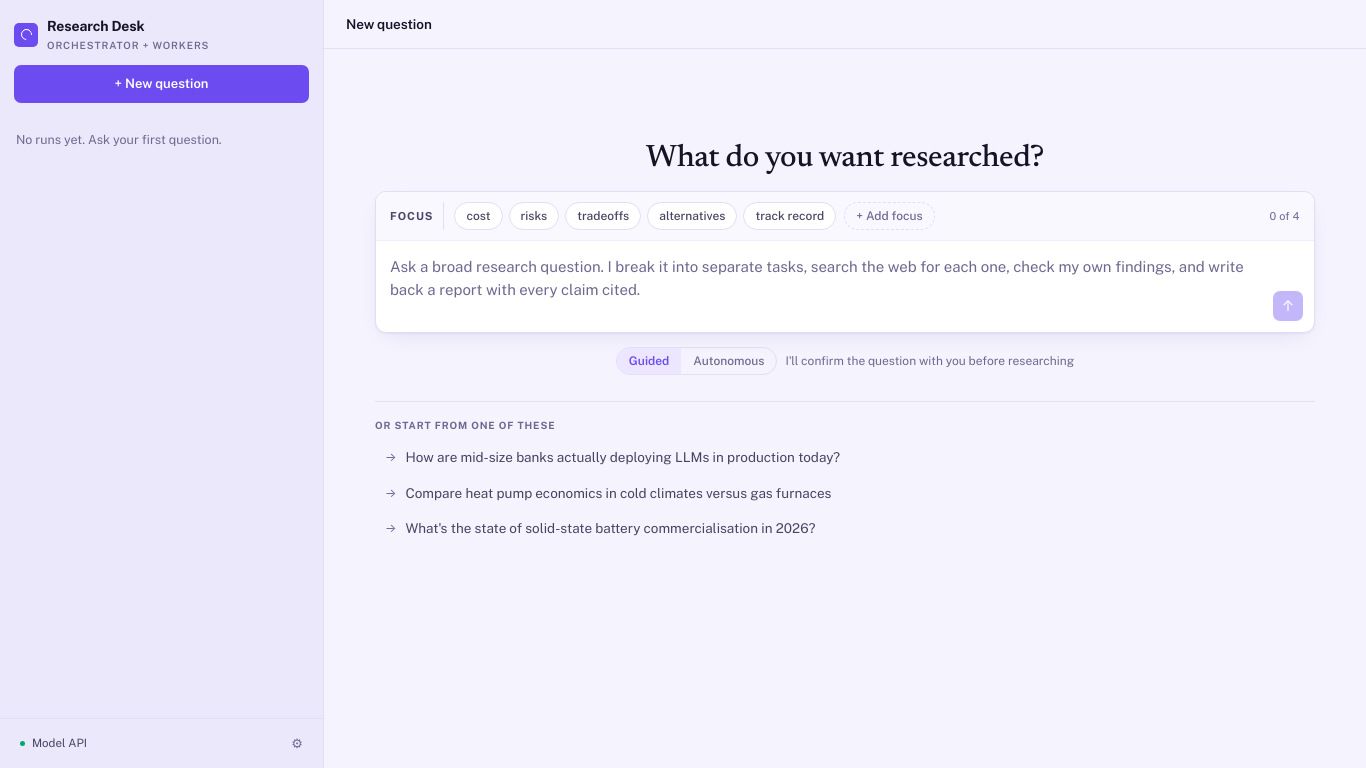
Test case: App › lets the user swap a dimension once at the limit
The image size is (1366, 768).
Click the button "cost" at (479, 216), box [454,202,503,230]
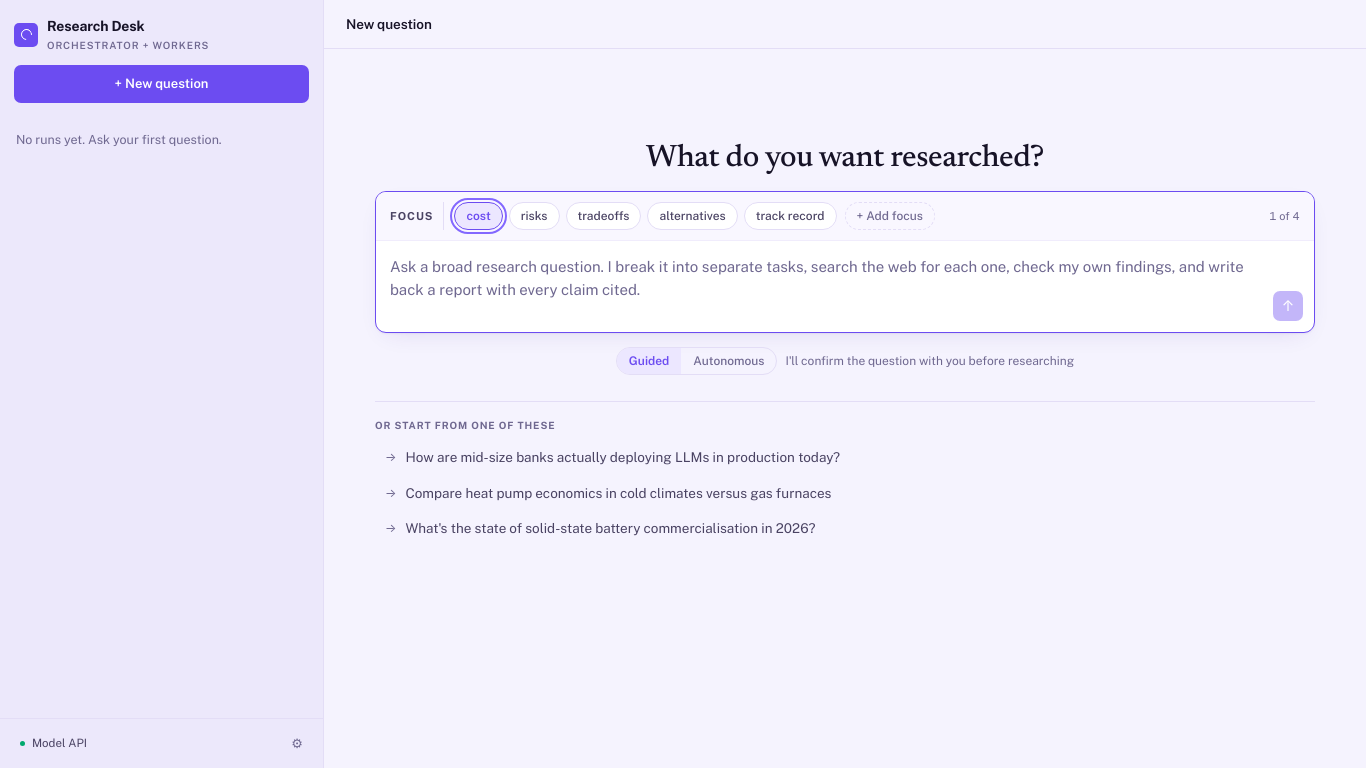
Click the button "risks" at (534, 216), box [509,202,560,230]
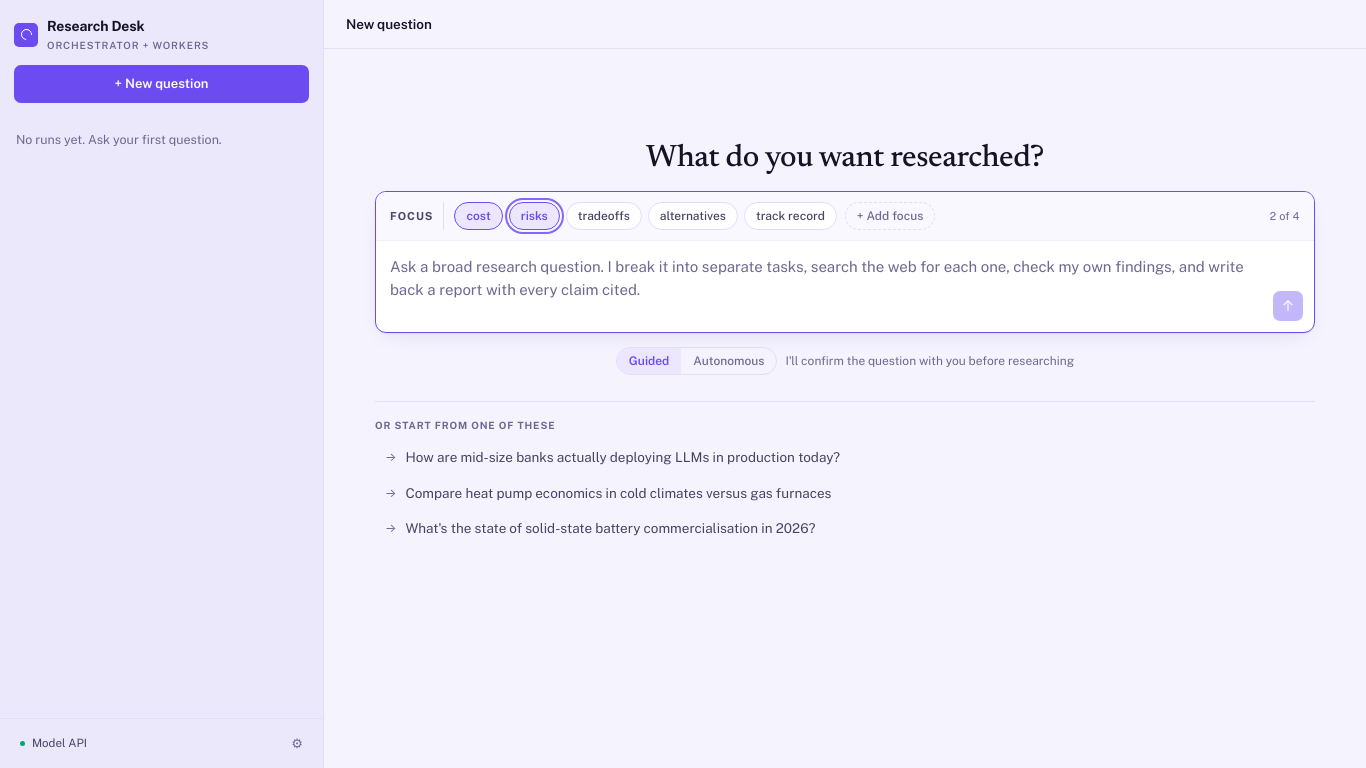
Click the button "tradeoffs" at (604, 216), box [566,202,642,230]
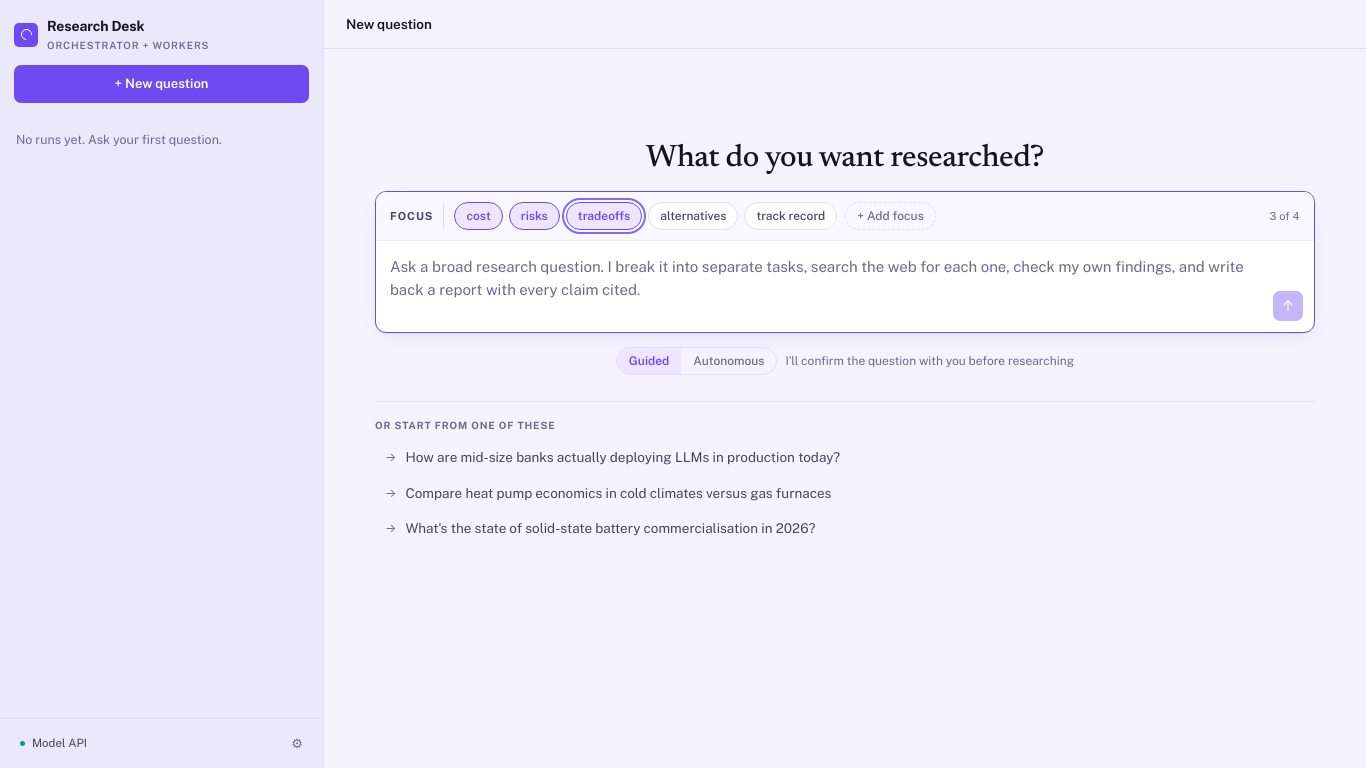
Click the button "alternatives" at (693, 216), box [648,202,738,230]
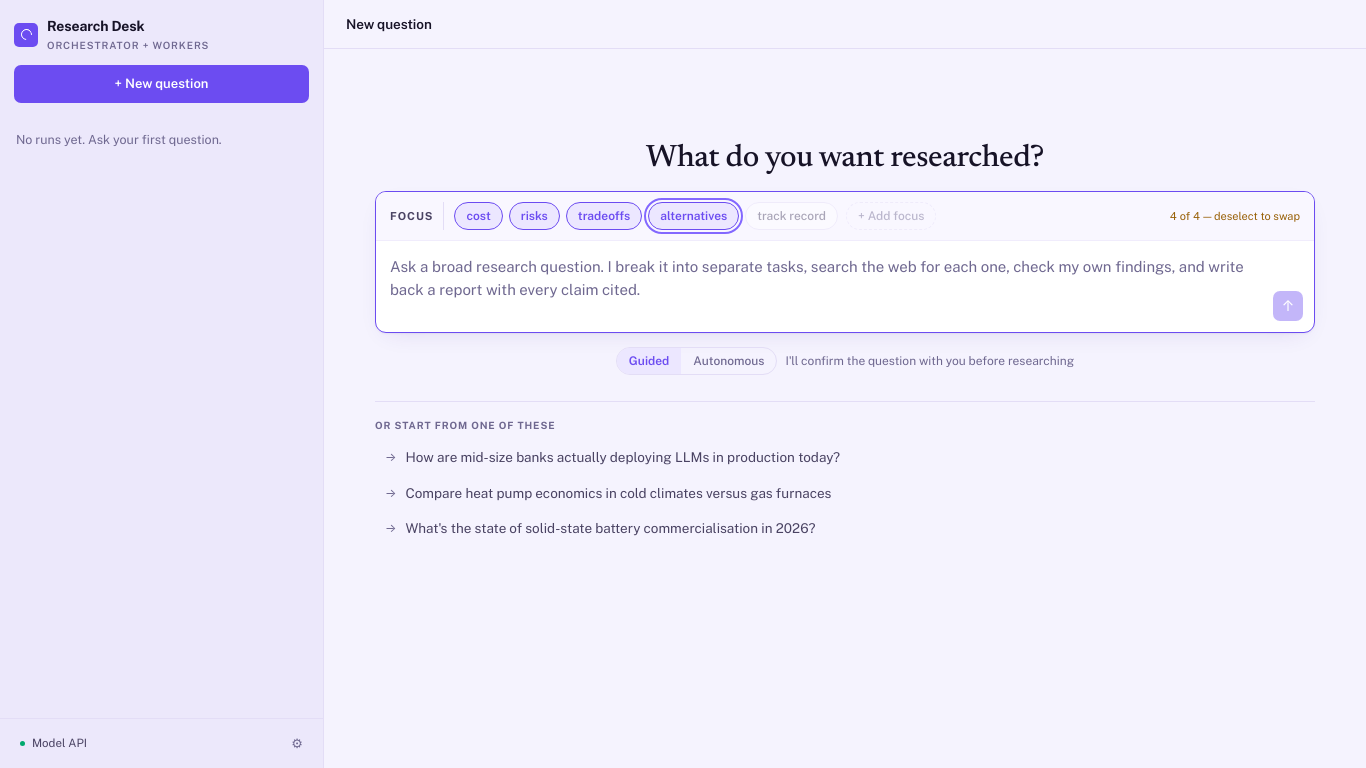
Result: the button "track record" is disabled at [745,202,838,230]
Click the button "cost" at (479, 216), box [454,202,503,230]
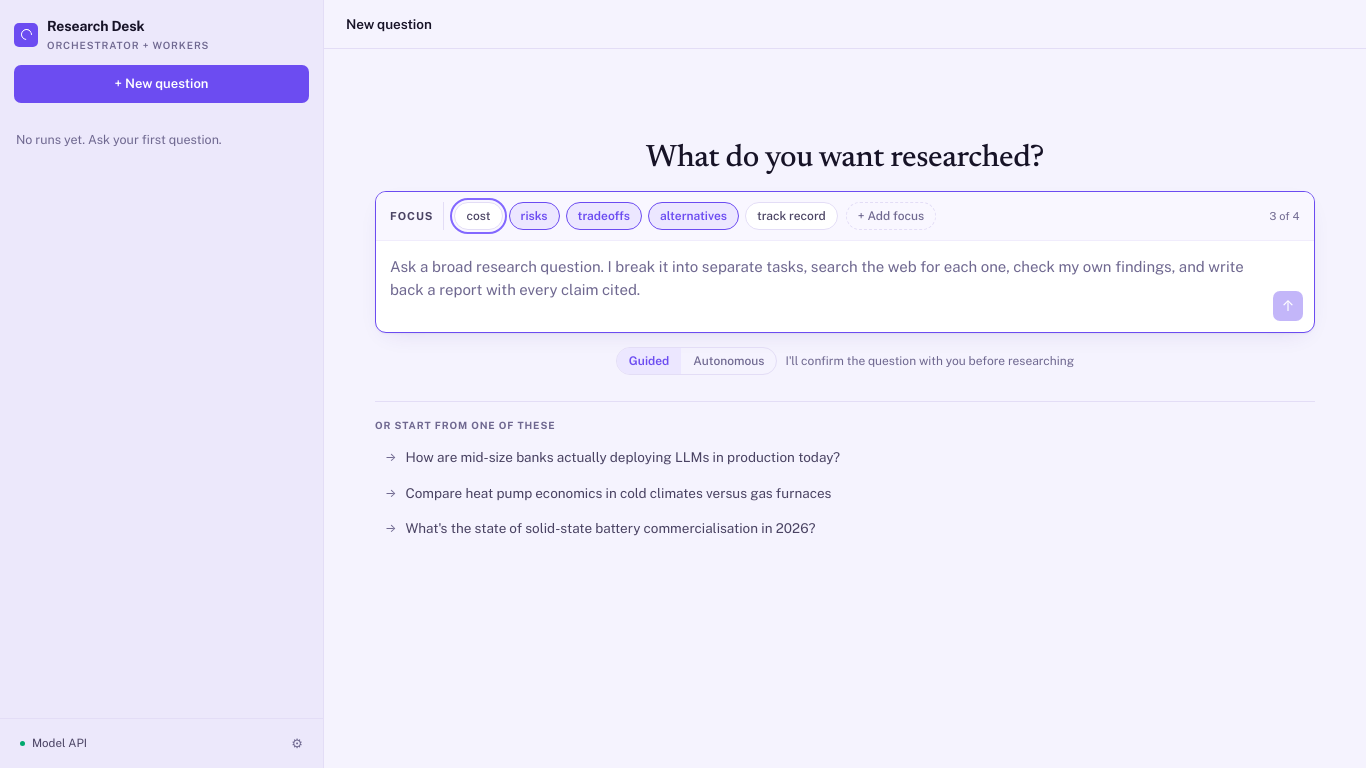
Result: the button "track record" is enabled at [745,202,838,230]
